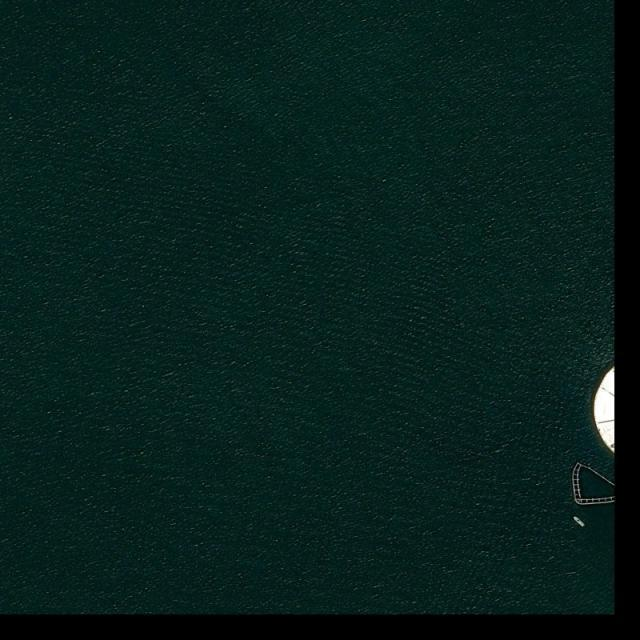ship: (574, 516, 585, 527)
